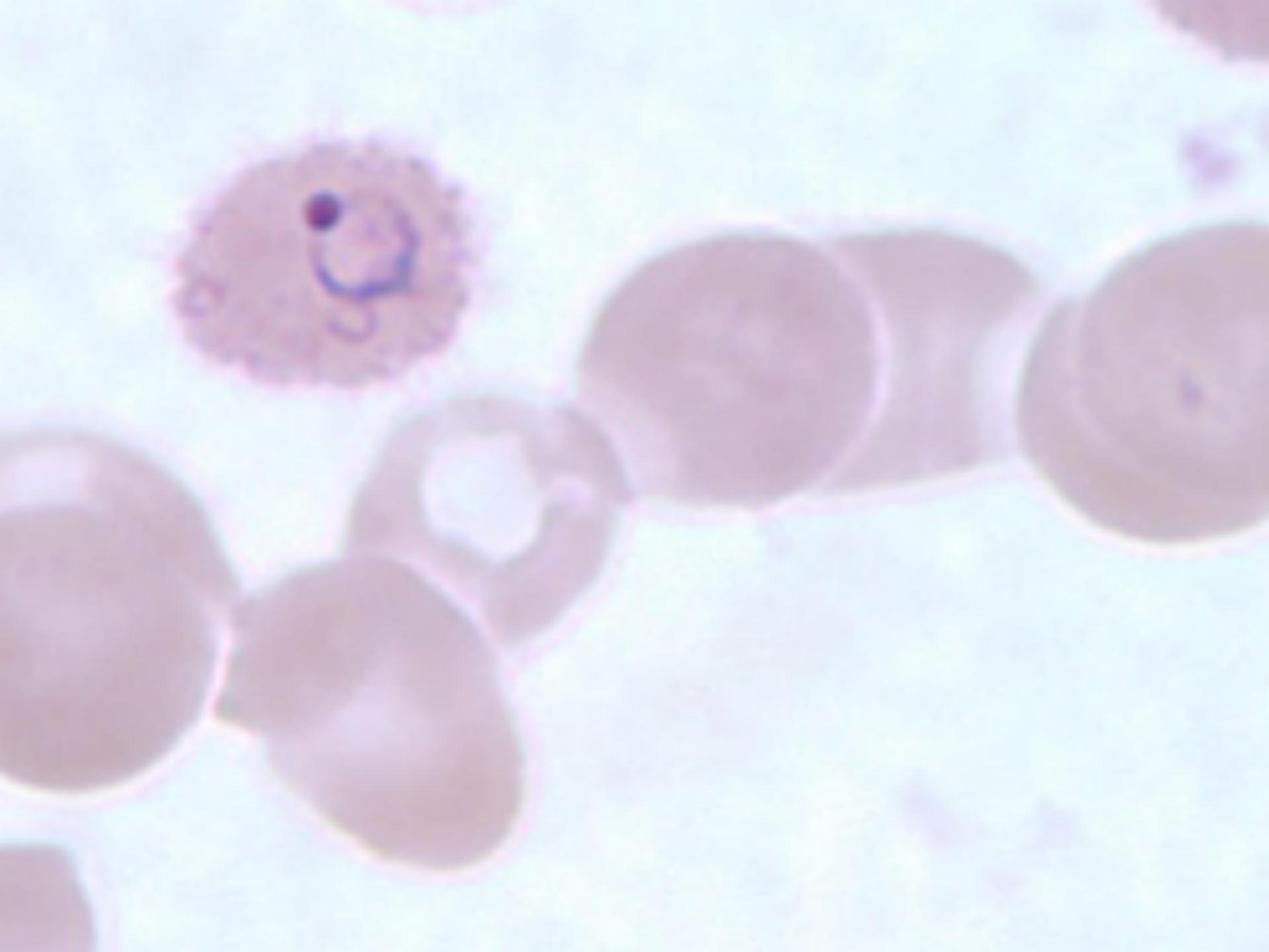Infected: (156, 133, 483, 404)
Uninfected: (205, 549, 530, 870), (0, 428, 256, 800), (579, 226, 864, 504), (348, 389, 626, 661), (1031, 239, 1269, 542), (802, 223, 1066, 486)
